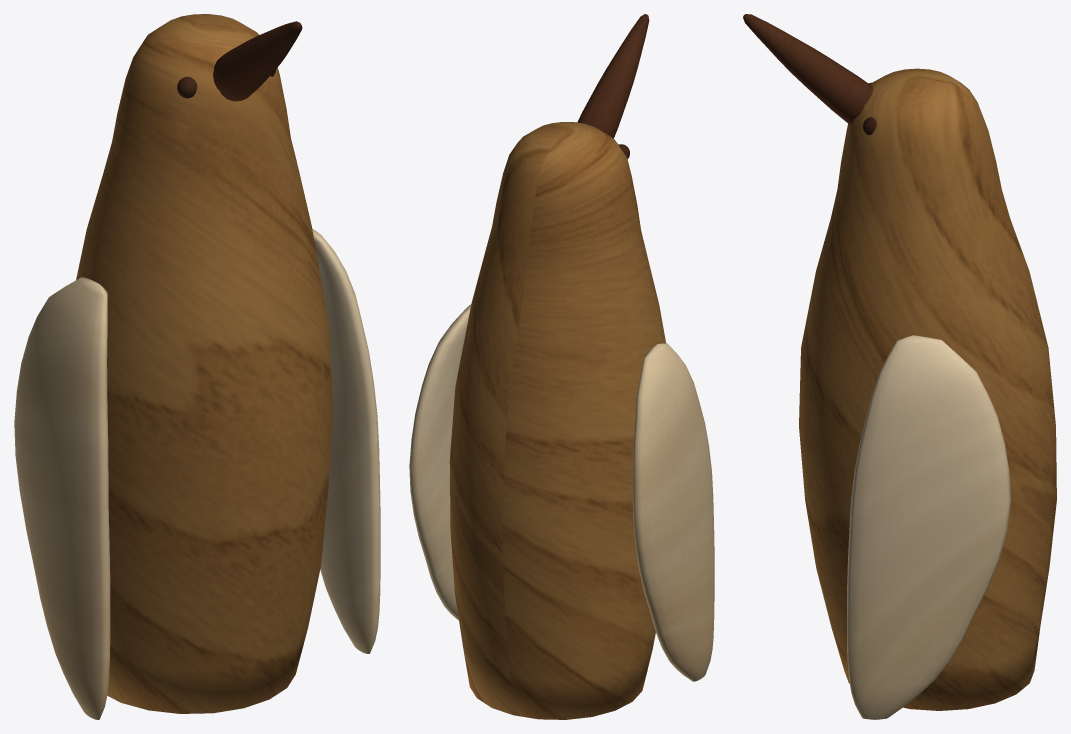
File: pengin.fbx
3 renders of one model, left to right at view 1: azimuth 30°, elevation 25°; view 2: azimuth 150°, elevation 25°; view 3: azimuth 270°, elevation 25°, orthographic. The views are drawn at different scales.
Parts seen in each view (by area): view 1: pengin; view 2: pengin; view 3: pengin.
Boxes of the visible parts, x1,y1,x2,y2 form: pengin: (14, 14, 380, 719); pengin: (409, 14, 714, 719); pengin: (743, 14, 1056, 719).
Size of the model in its own units: 27.07 by 61.77 by 26.77.
1 material, 1 textured.
